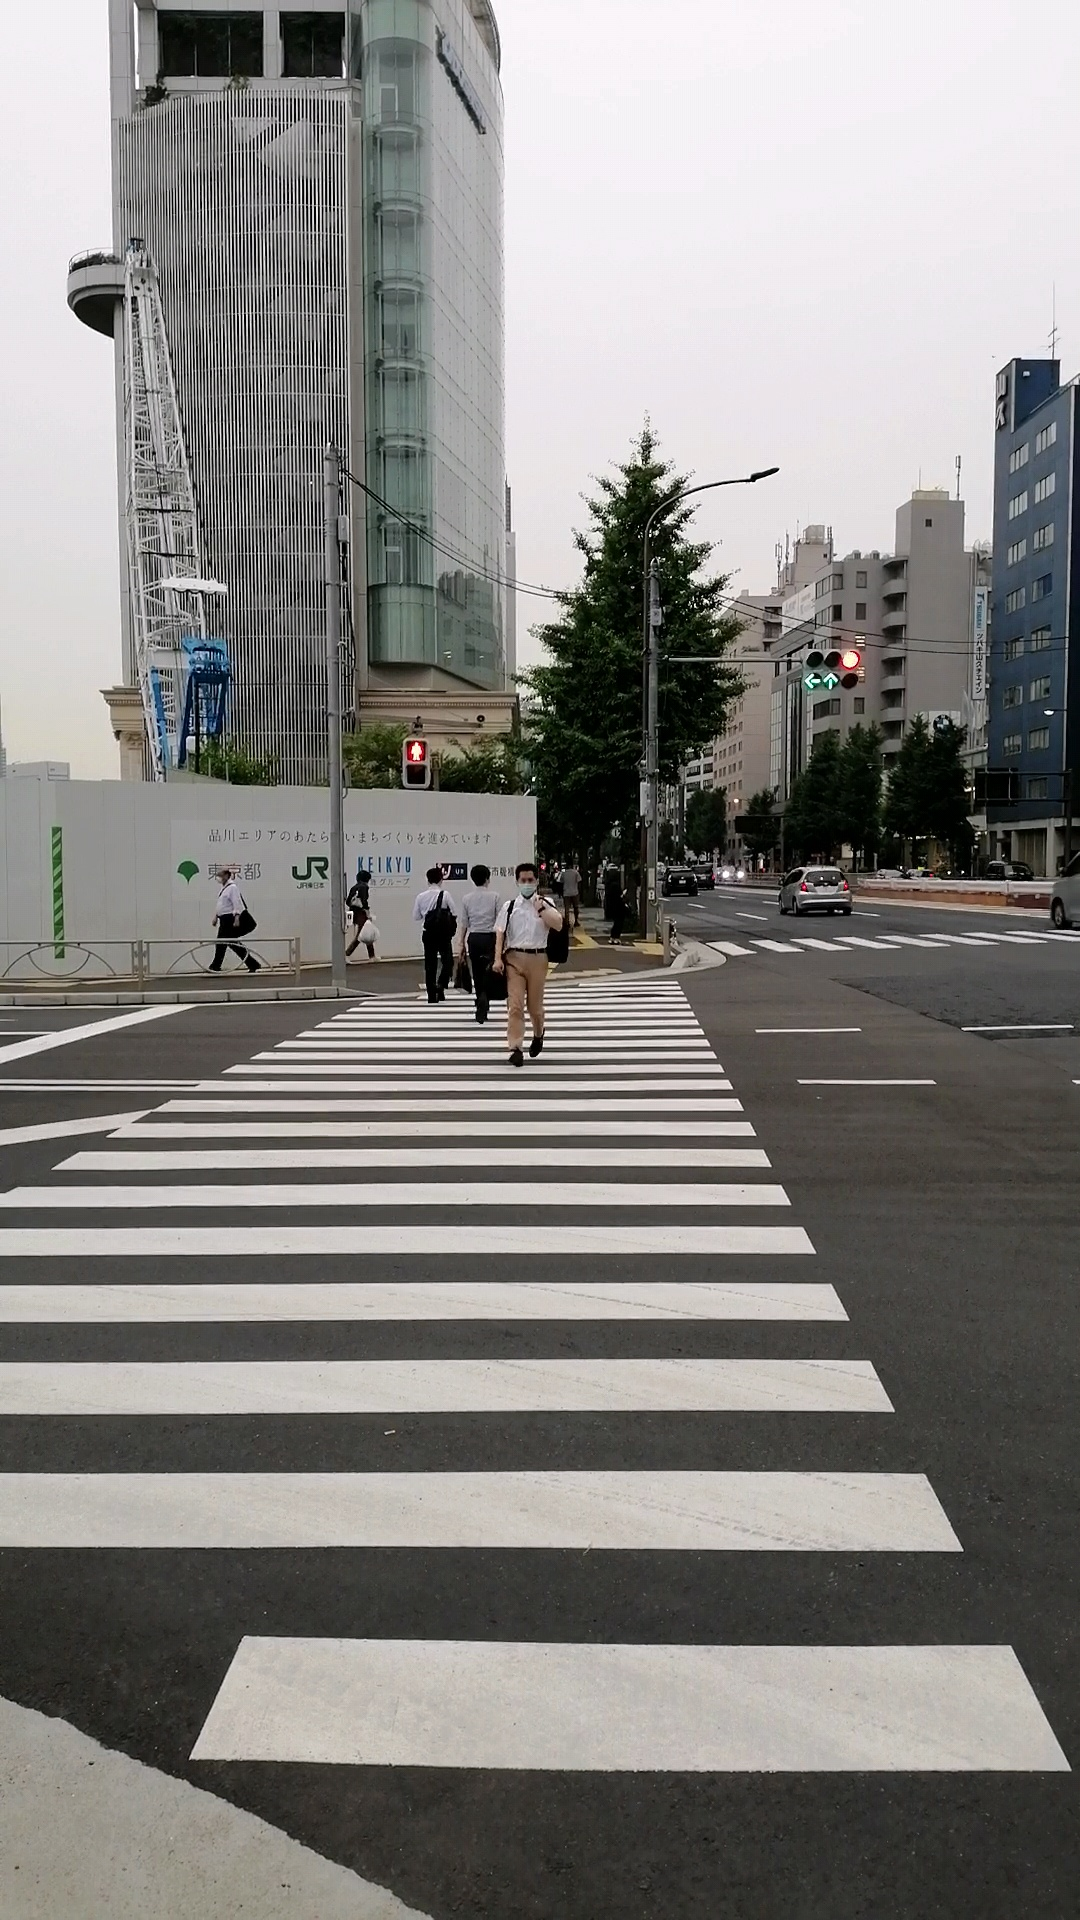red: (401, 738, 429, 789)
